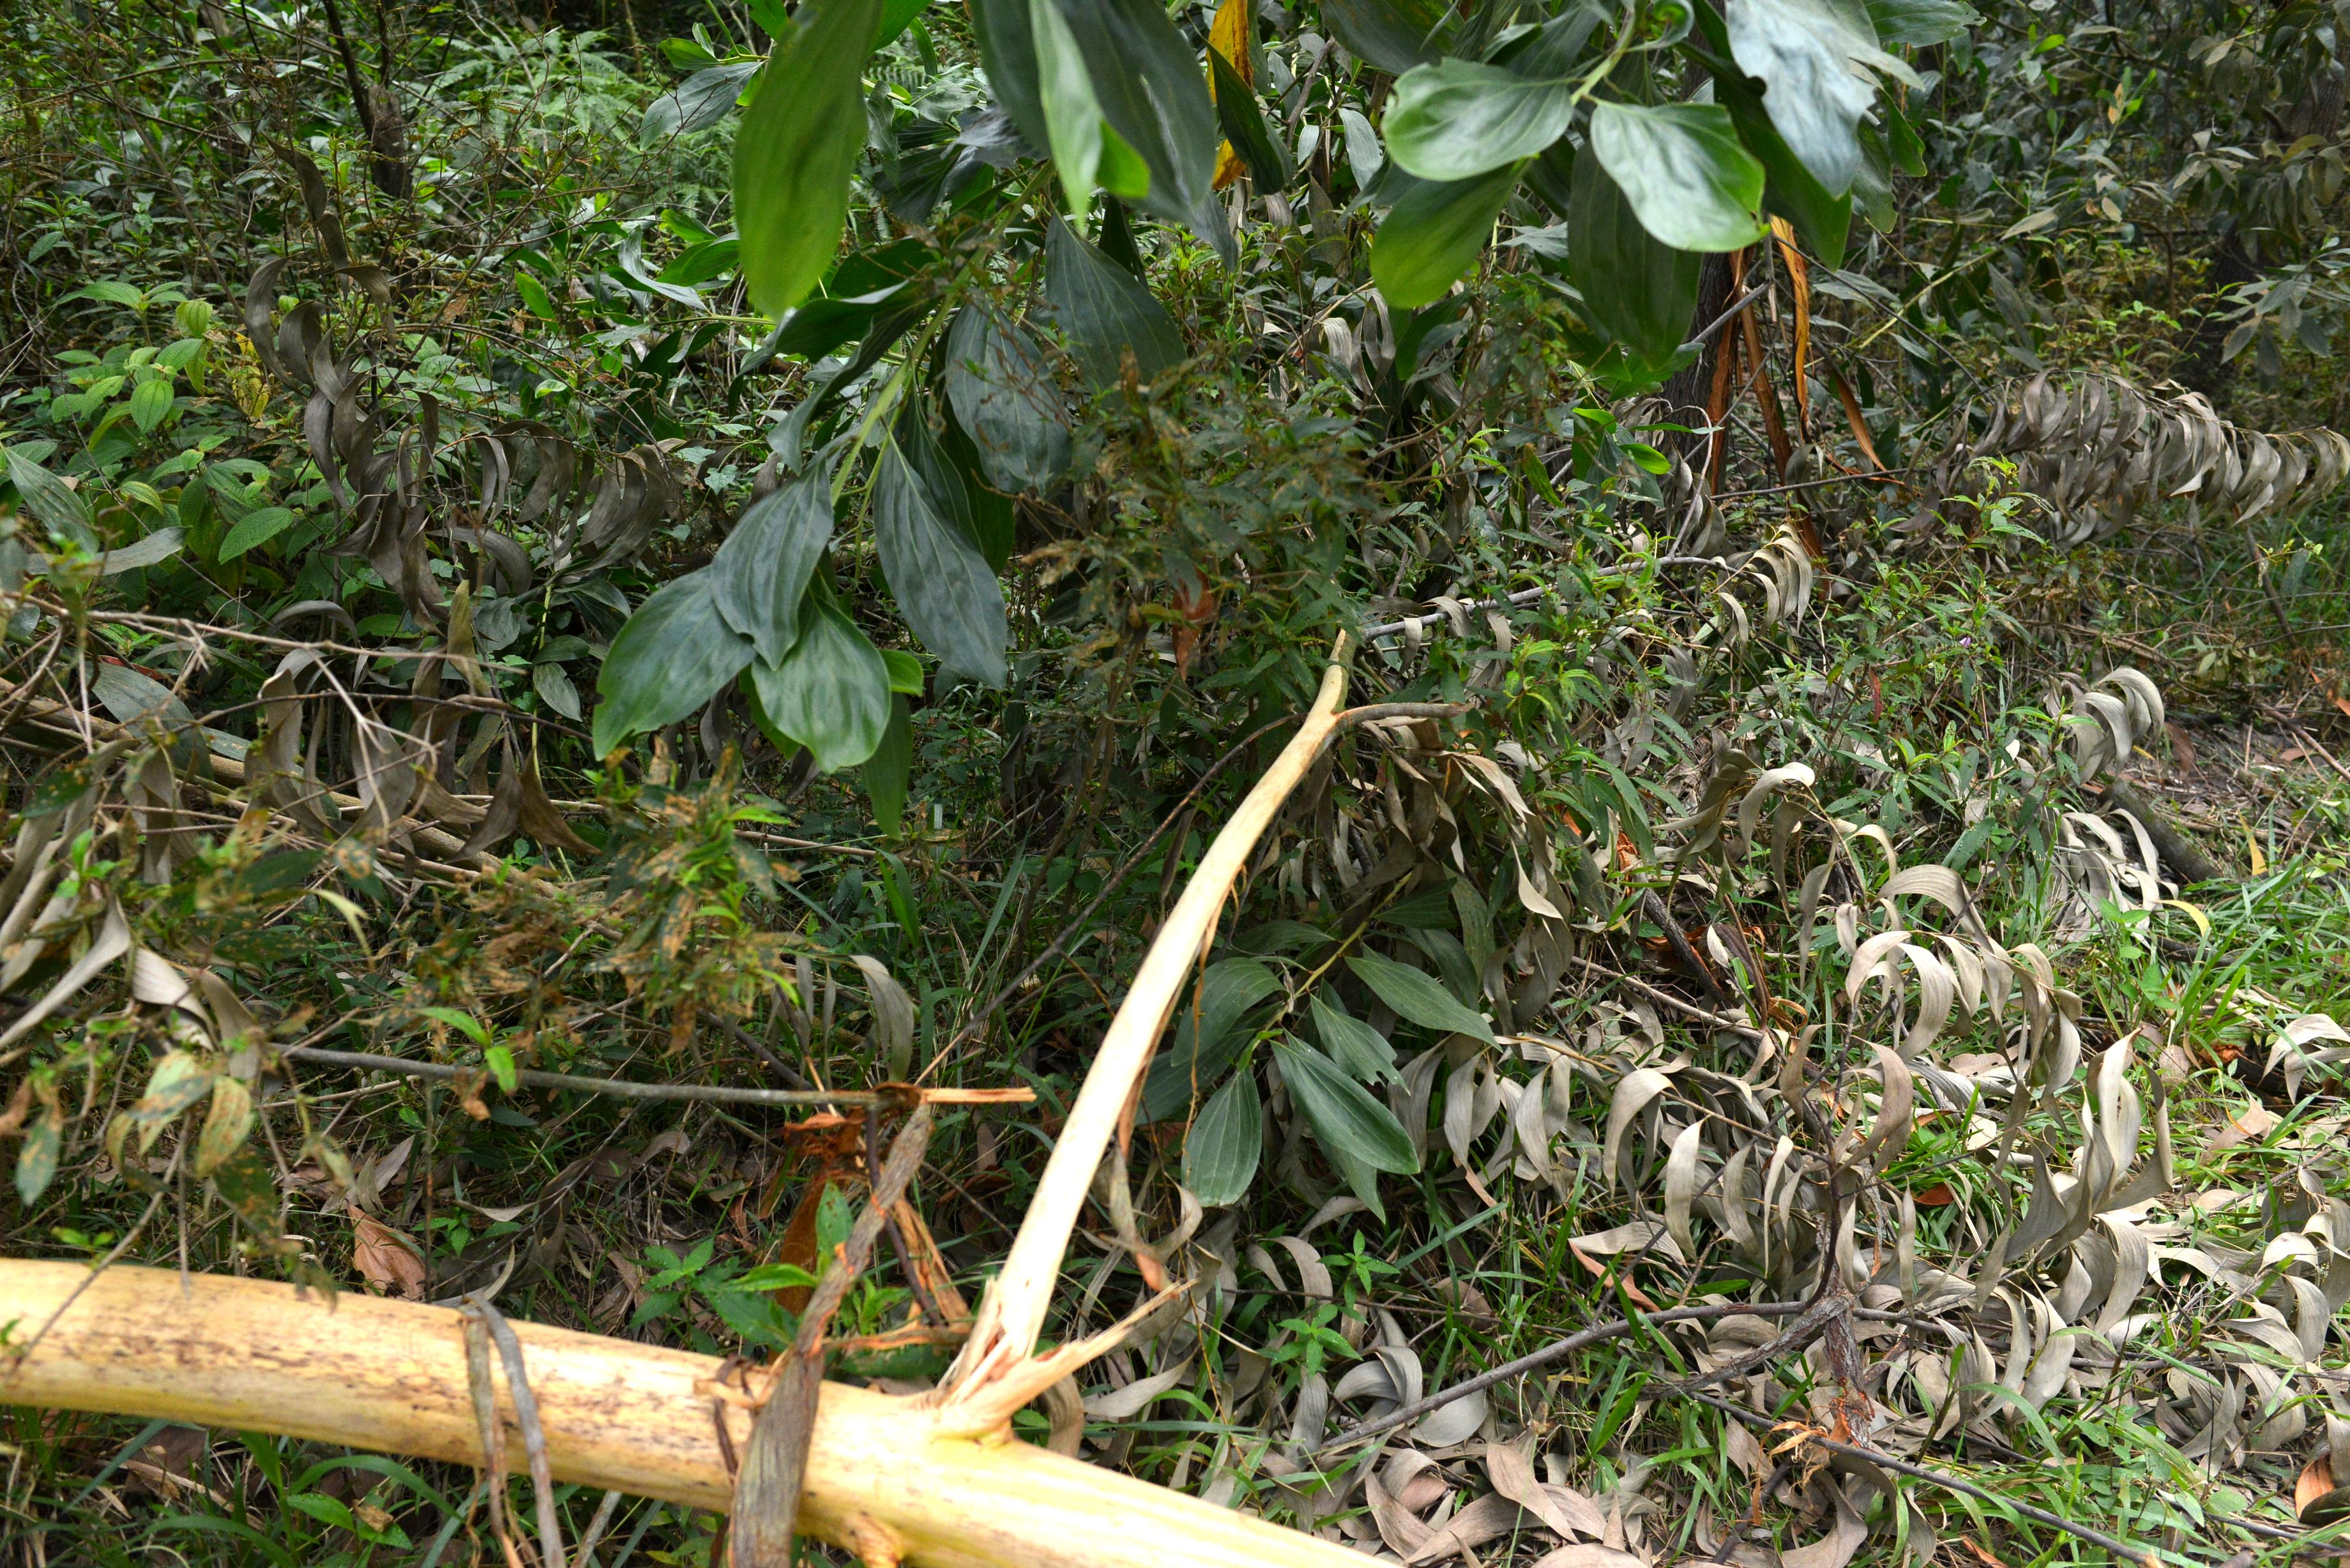Mammals Attack: (0, 626, 1393, 1568), (1696, 191, 1764, 495)
